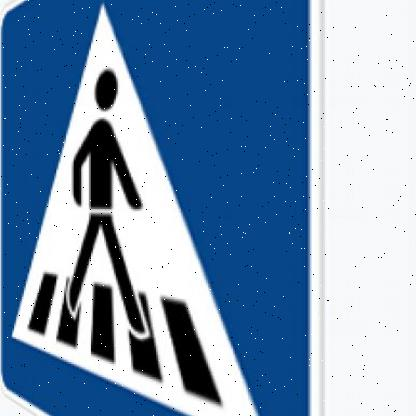Pedestrian Crossing: (1, 1, 324, 416)
